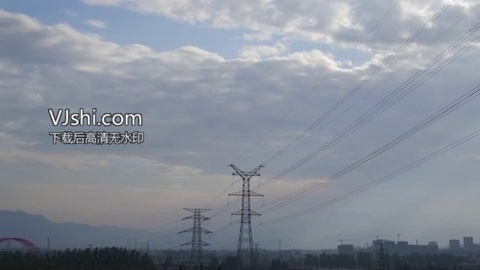tower_body: (224, 159, 273, 264), (175, 201, 218, 264)
tower_foot: (237, 235, 257, 260)
tower_head: (228, 162, 269, 180), (178, 205, 215, 222)
